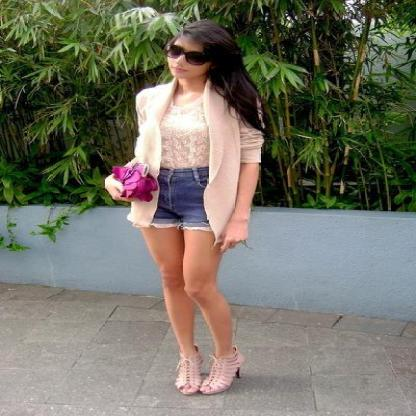bag: (108, 163, 176, 207)
jacket: (124, 78, 263, 240)
shirt: (149, 92, 211, 174)
shoe: (175, 350, 240, 390)
shorts: (137, 164, 209, 240)
sunglass: (175, 47, 211, 74)
